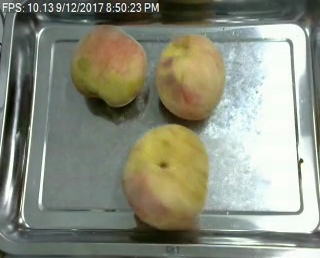Peach: (123, 123, 208, 230), (72, 23, 149, 107), (156, 33, 225, 119)
